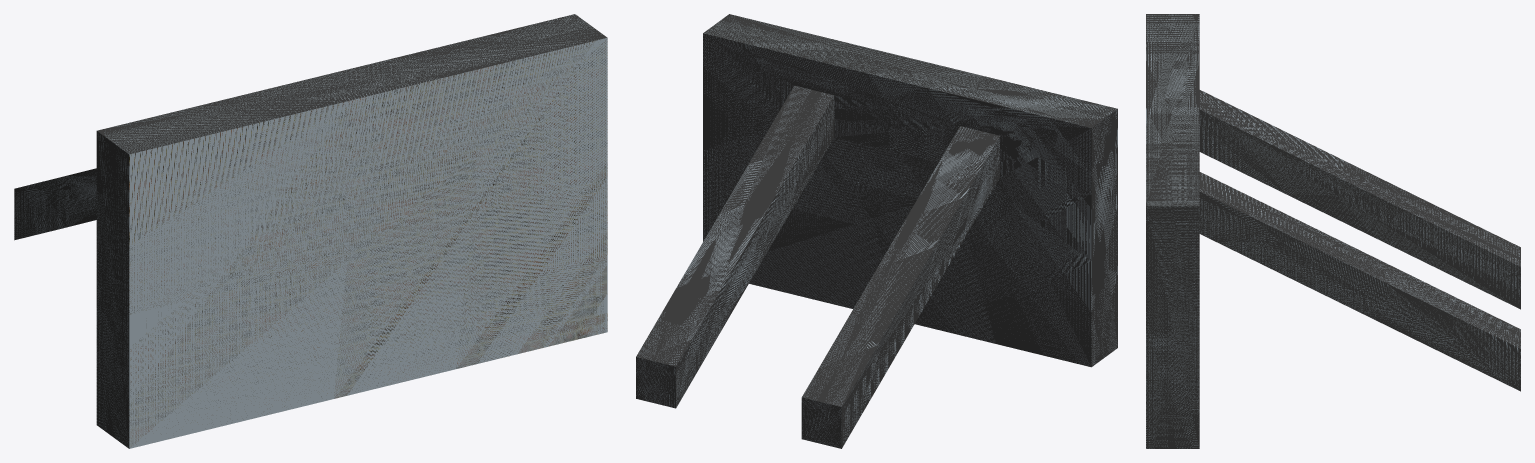
The model's file is cartel_1.fbx.
3 views of the same model, side by side, from view 1: azimuth 30°, elevation 25°; view 2: azimuth 150°, elevation 25°; view 3: azimuth 270°, elevation 25° (orthographic). The views are drawn at different scales.
Visible parts, largest first — view 1: Model; view 2: Model; view 3: Model.
Boxes of the visible parts, x1,y1,x2,y2 form: Model: (14,14,607,448); Model: (636,14,1117,448); Model: (1146,14,1520,448).
Bounding box in the file's own units: 3.4 × 2 × 2.8.
